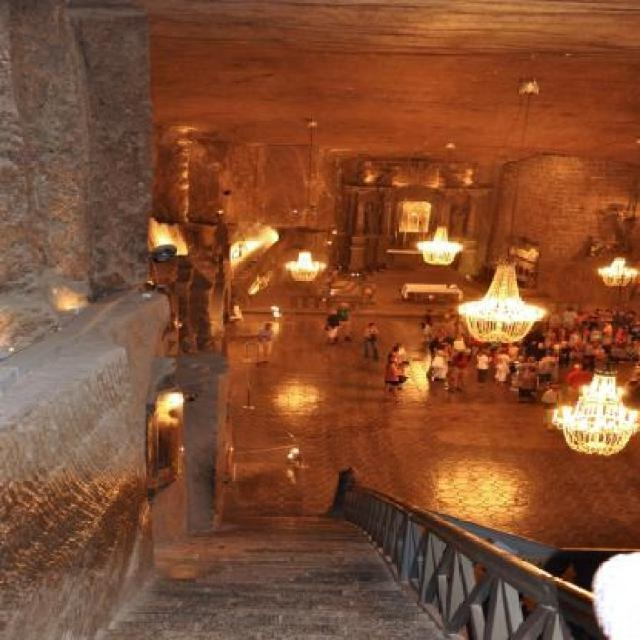stair: (88, 509, 462, 640)
